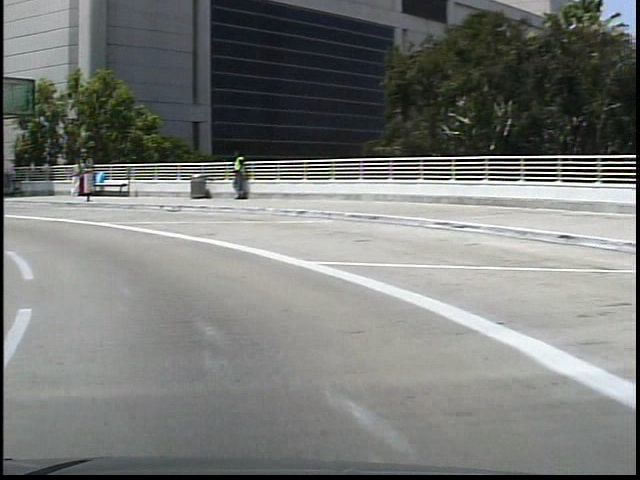person: (223, 147, 244, 202)
